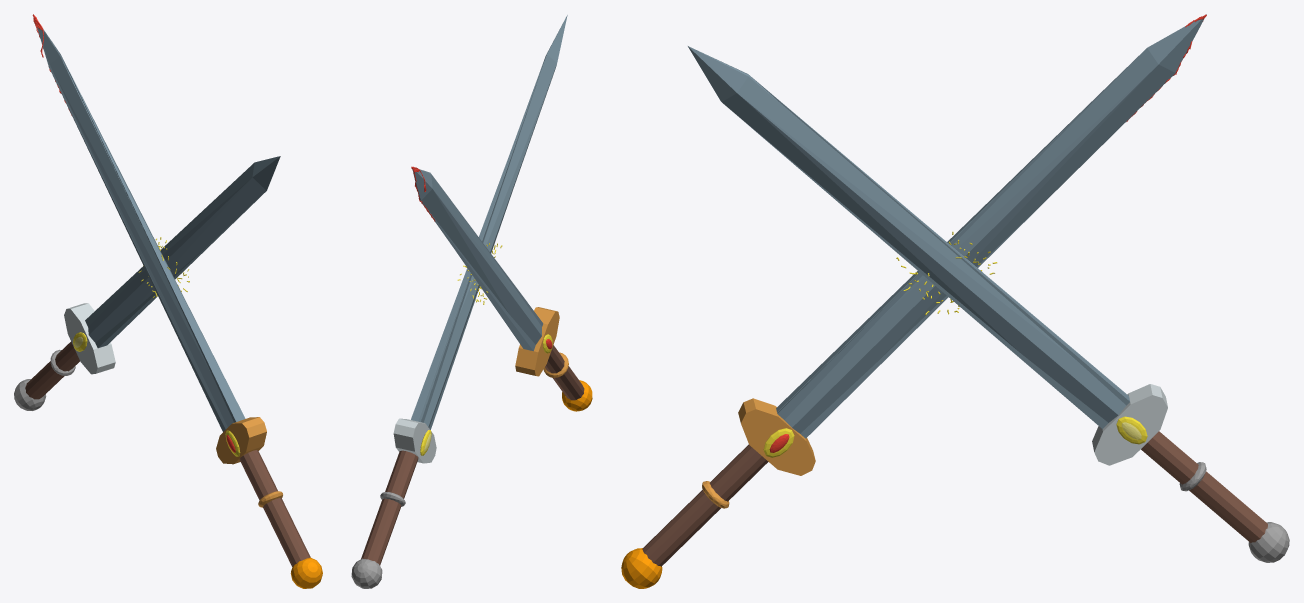
File: swords-by-matti-hedegaard-do-n06NtGaY.glb
3 renders of one model, left to right at view 1: azimuth 30°, elevation 25°; view 2: azimuth 150°, elevation 25°; view 3: azimuth 270°, elevation 25°, orthographic. The views are drawn at different scales.
Visible parts, largest first — view 1: group517930167, group1954418448; view 2: group1954418448, group517930167; view 3: group1954418448, group517930167.
Part boxes in pixels (bbox=[...]): group517930167: bbox=[37, 27, 322, 588]; group1954418448: bbox=[14, 156, 280, 410]; group1954418448: bbox=[351, 15, 567, 588]; group517930167: bbox=[412, 169, 592, 411]; group1954418448: bbox=[688, 46, 1289, 562]; group517930167: bbox=[621, 14, 1206, 588].
Size of the model in its own units: 0.7627 by 4.47 by 5.01.
